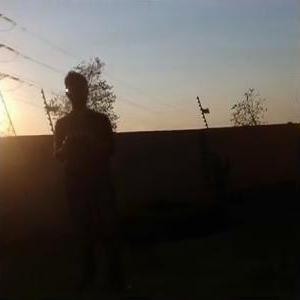follow: (52, 67, 129, 285)
